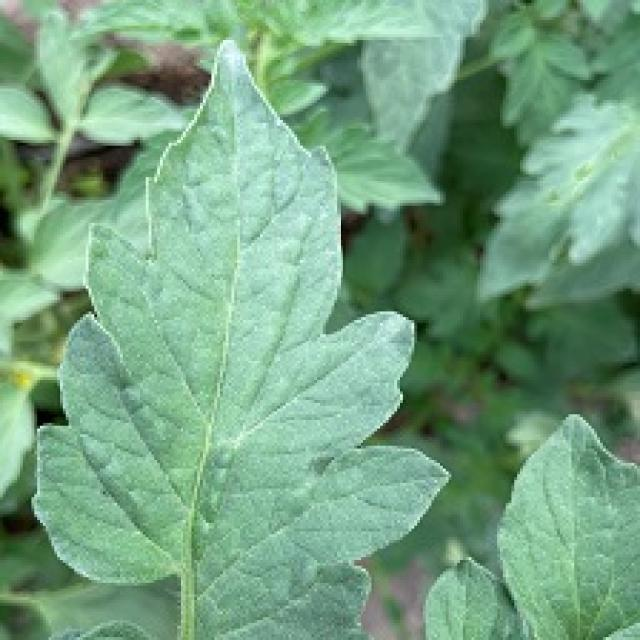Healthy: (0, 37, 596, 640), (498, 416, 639, 639)
